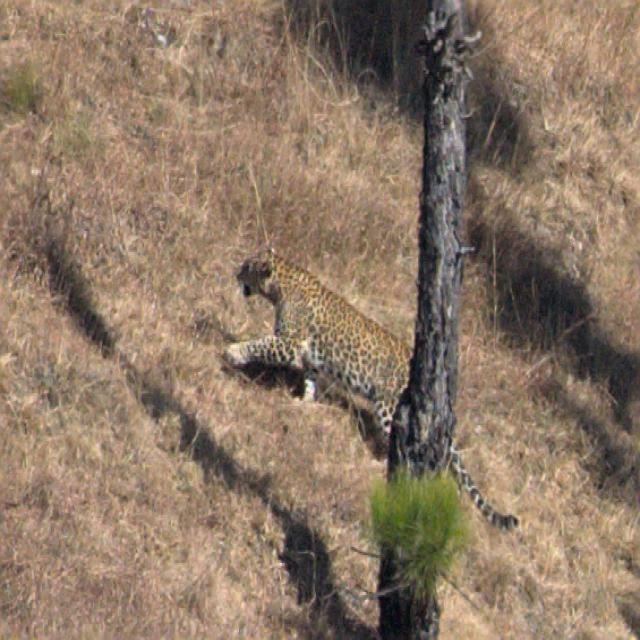Leopard: (225, 241, 520, 528)
